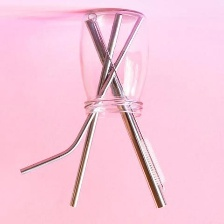drinking_straw: (67, 10, 125, 211)
glass: (75, 5, 154, 124)
